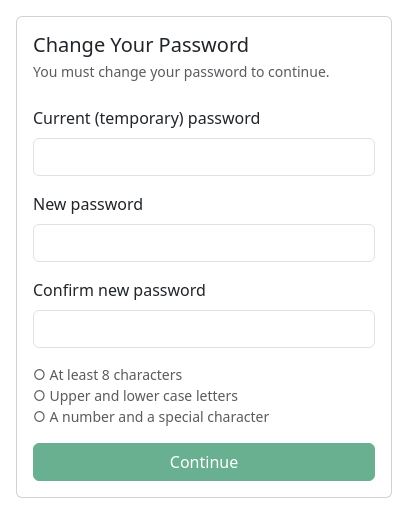
Scenario: ChangePassword › disables Continue until all password rules pass and confirmation matches
The image size is (409, 515).
Check: the button "Continue" is disabled, box [33,443,375,481]
Type "OldPass1!" into the password field labelled "Current (temporary) password". click: (204, 157)
box: [33,138,375,176]
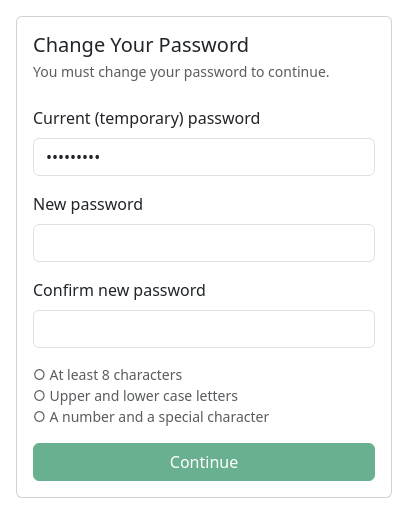
Type "weak" into the password field labelled "New password". click: (204, 243)
box: [33,224,375,262]
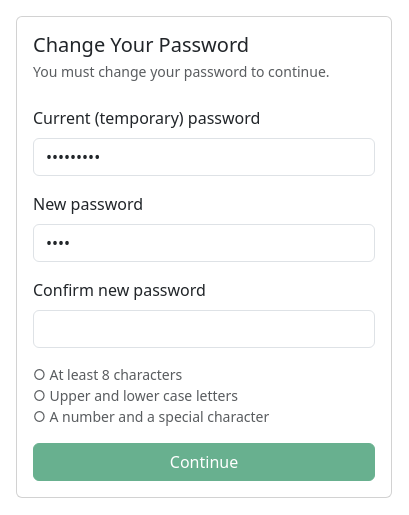
Type "weak" into the password field labelled "Confirm new password". click: (204, 329)
box: [33,310,375,348]
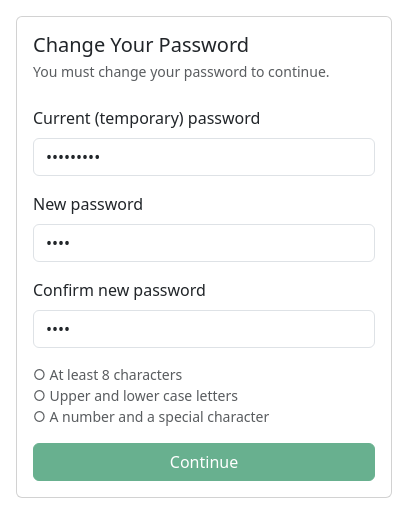
Check: the button "Continue" is disabled, box [33,443,375,481]
Type "NewSecure123!" into the password field labelled "New password". click: (204, 243)
box: [33,224,375,262]
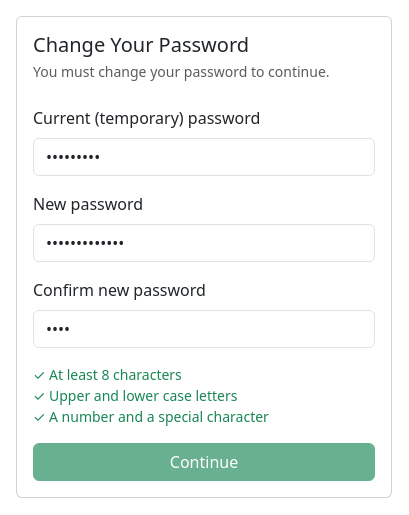
Type "NewSecure123!" into the password field labelled "Confirm new password". click: (204, 329)
box: [33,310,375,348]
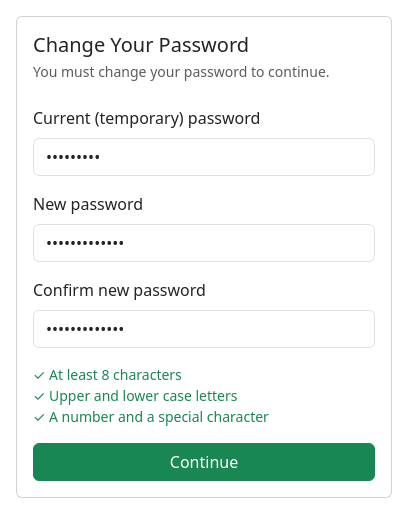
Check: the button "Continue" is enabled, box [33,443,375,481]
